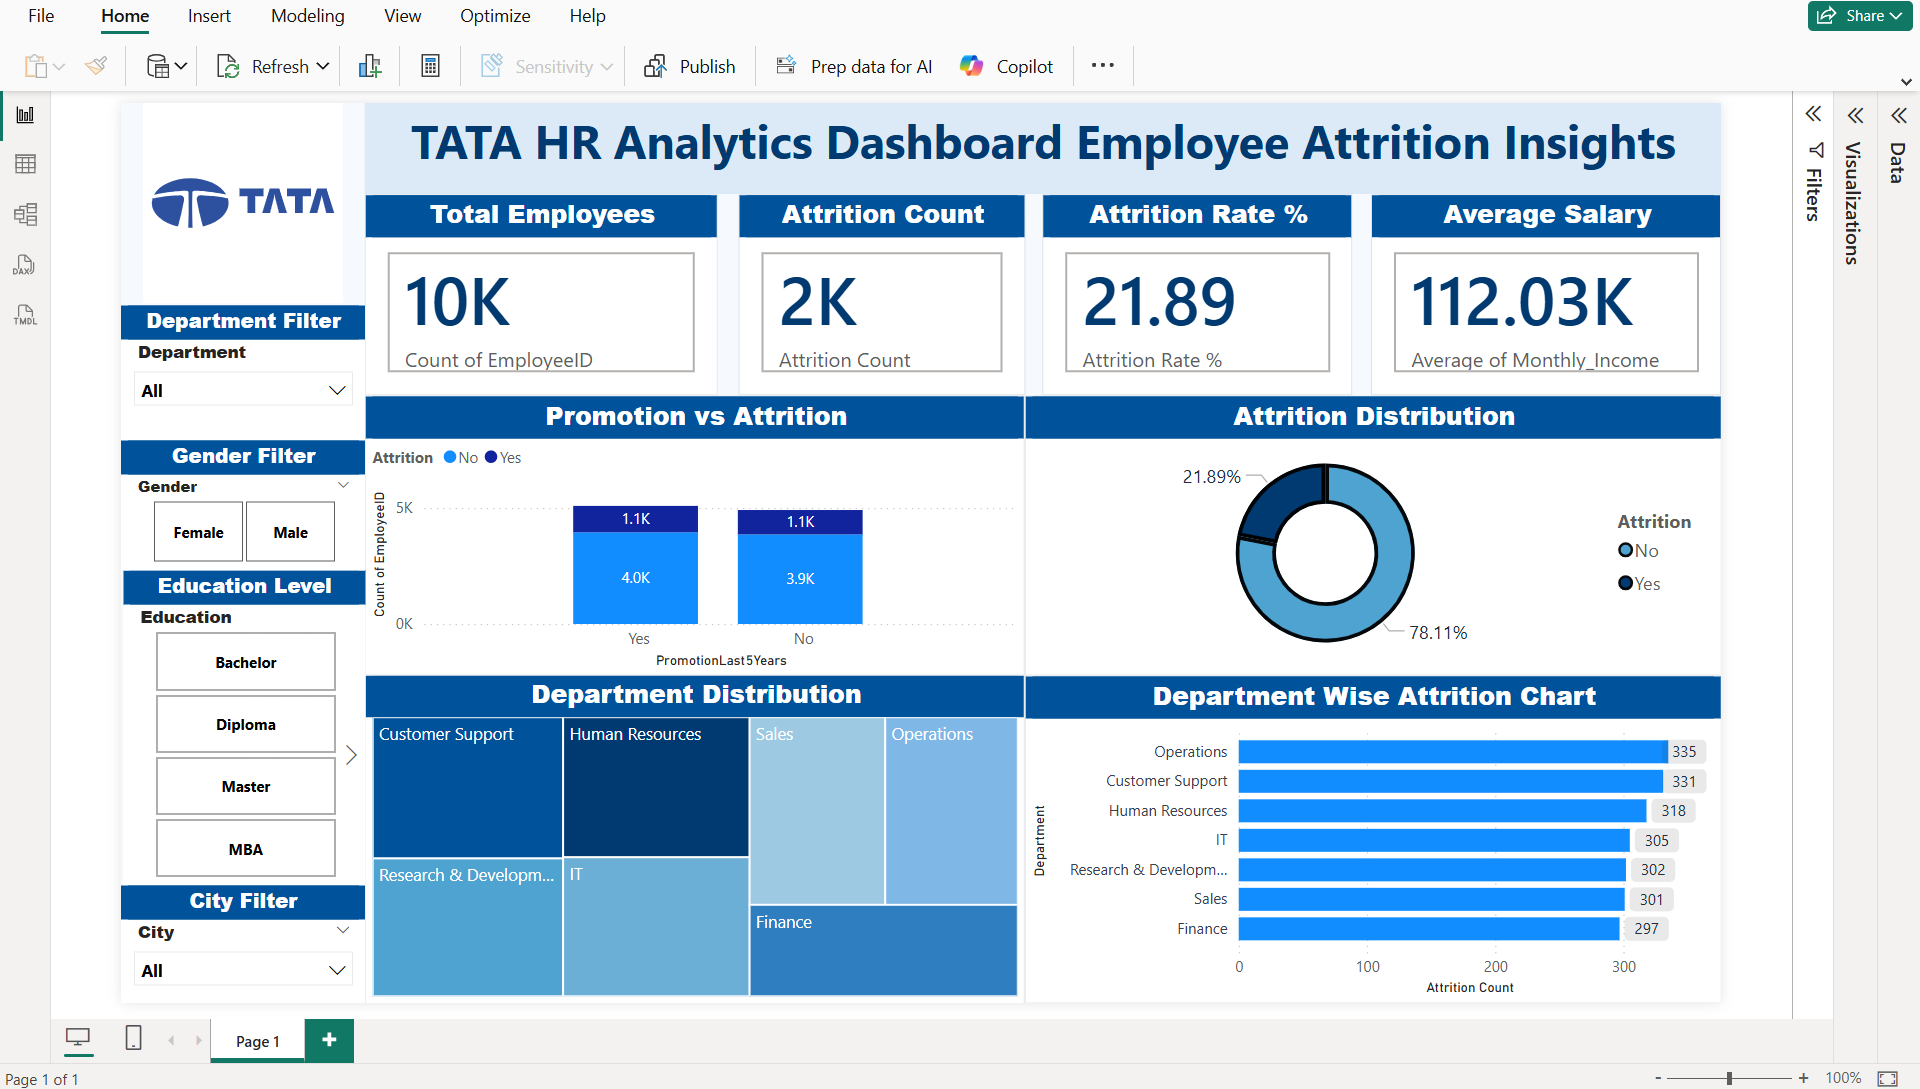

What the dashboard file says about the page in this screenshot:
{"tool":"powerbi","page":{"name":"Page 1","canvas":[1280,720],"ordinal":0},"visuals":[{"type":"cardVisual","title":"Total Employees","fields":{"Data":["Count(Tata_HR_Analytics_10k.EmployeeID)"]},"box":[195.3,73.3,281.4,160.5],"z":0},{"type":"cardVisual","title":"Attrition Count","fields":{"Data":["Tata_HR_Analytics_10k.Attrition Count"]},"box":[494.2,73.3,229.1,160.5],"z":1000},{"type":"cardVisual","title":"Attrition Rate %","fields":{"Data":["Tata_HR_Analytics_10k.Attrition Rate %"]},"box":[737.2,73.3,247.7,160.5],"z":2000},{"type":"cardVisual","title":"Average Salary","fields":{"Data":["Avg(Tata_HR_Analytics_10k.MonthlyIncome)"]},"box":[1000,73.3,280.2,160.5],"z":3000},{"type":"image","box":[0,0,195.3,160.5],"z":4000},{"type":"clusteredBarChart","title":"Department Wise Attrition Chart","fields":{"Y":["Tata_HR_Analytics_10k.Attrition Count"],"Category":["Tata_HR_Analytics_10k.Department"]},"box":[723.3,458.1,557,261.6],"z":5000},{"type":"donutChart","title":"Attrition Distribution","fields":{"Category":["Tata_HR_Analytics_10k.Attrition"],"Y":["CountNonNull(Tata_HR_Analytics_10k.EmployeeID)"]},"box":[723.3,233.7,557,224.4],"z":6000},{"type":"treemap","title":"Department Distribution","fields":{"Group":["Tata_HR_Analytics_10k.Department"],"Values":["CountNonNull(Tata_HR_Analytics_10k.EmployeeID)"]},"box":[195.3,457,527.9,264],"z":7000},{"type":"columnChart","title":"Promotion vs Attrition","fields":{"Category":["Tata_HR_Analytics_10k.PromotionLast5Years"],"Series":["Tata_HR_Analytics_10k.Attrition"],"Y":["CountNonNull(Tata_HR_Analytics_10k.EmployeeID)"]},"box":[195.3,233.7,527.9,224.4],"z":8000},{"type":"slicer","title":"Department Filter","fields":{"Values":["Tata_HR_Analytics_10k.Department"]},"box":[0,161.6,195.3,108.1],"z":9000},{"type":"slicer","title":"Gender Filter","fields":{"Values":["Tata_HR_Analytics_10k.Gender"]},"box":[0,269.8,195.3,104.7],"z":10000},{"type":"slicer","title":"Education Level","fields":{"Values":["Tata_HR_Analytics_10k.Education"]},"box":[2.3,374.4,193,251.2],"z":11000},{"type":"slicer","title":"City Filter","fields":{"Values":["Tata_HR_Analytics_10k.City"]},"box":[0,625.6,195.3,95.3],"z":12000},{"type":"textbox","box":[195.3,0,1084.9,73.3],"z":13000}]}

Visuals, with their boxes on the page's 1280x720 design canvas (x1, y1, x2, y2). These are canvas units, not pixel positions in the 1920x1089 screenshot, which may show the page scaled, cropped or inside an application window:
"Total Employees" cardVisual: bbox(195, 73, 477, 234)
"Attrition Count" cardVisual: bbox(494, 73, 723, 234)
"Attrition Rate %" cardVisual: bbox(737, 73, 985, 234)
"Average Salary" cardVisual: bbox(1000, 73, 1280, 234)
image: bbox(0, 0, 195, 160)
"Department Wise Attrition Chart" clusteredBarChart: bbox(723, 458, 1280, 720)
"Attrition Distribution" donutChart: bbox(723, 234, 1280, 458)
"Department Distribution" treemap: bbox(195, 457, 723, 721)
"Promotion vs Attrition" columnChart: bbox(195, 234, 723, 458)
"Department Filter" slicer: bbox(0, 162, 195, 270)
"Gender Filter" slicer: bbox(0, 270, 195, 374)
"Education Level" slicer: bbox(2, 374, 195, 626)
"City Filter" slicer: bbox(0, 626, 195, 721)
textbox: bbox(195, 0, 1280, 73)
